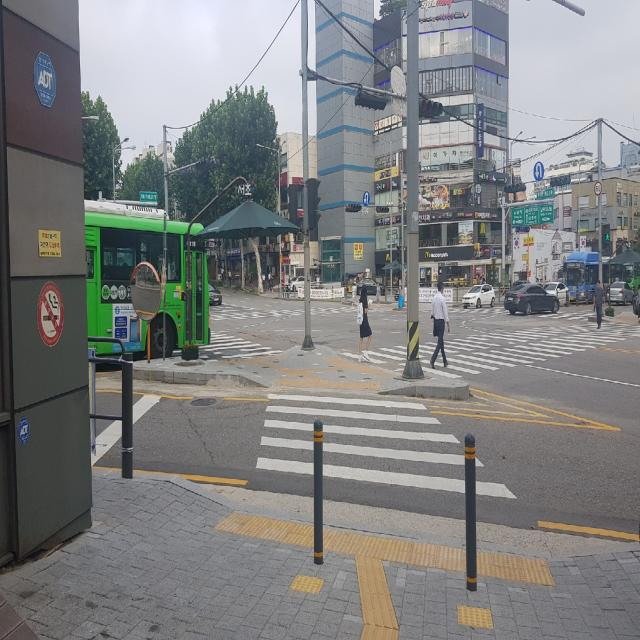초록불: (605, 225, 611, 255)
횡단보도: (255, 393, 517, 499), (382, 331, 623, 356), (218, 309, 350, 317), (209, 338, 267, 356)
